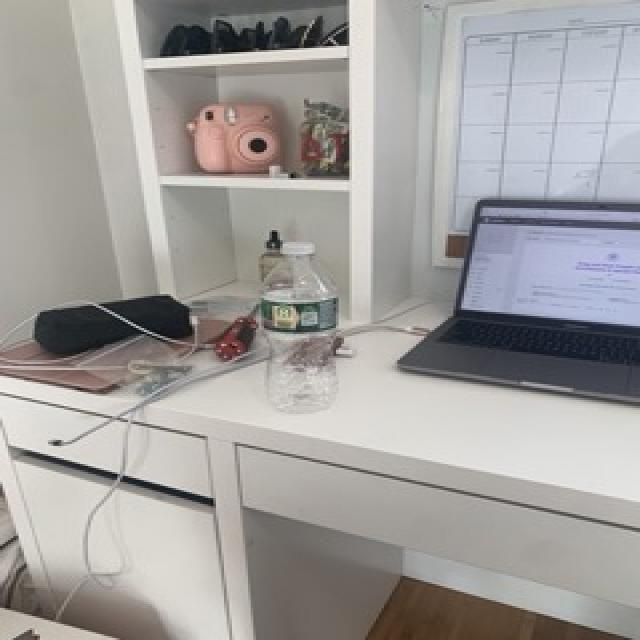water_bottle: (250, 239, 353, 418)
